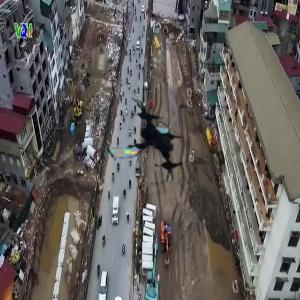drone: (96, 94, 192, 190)
